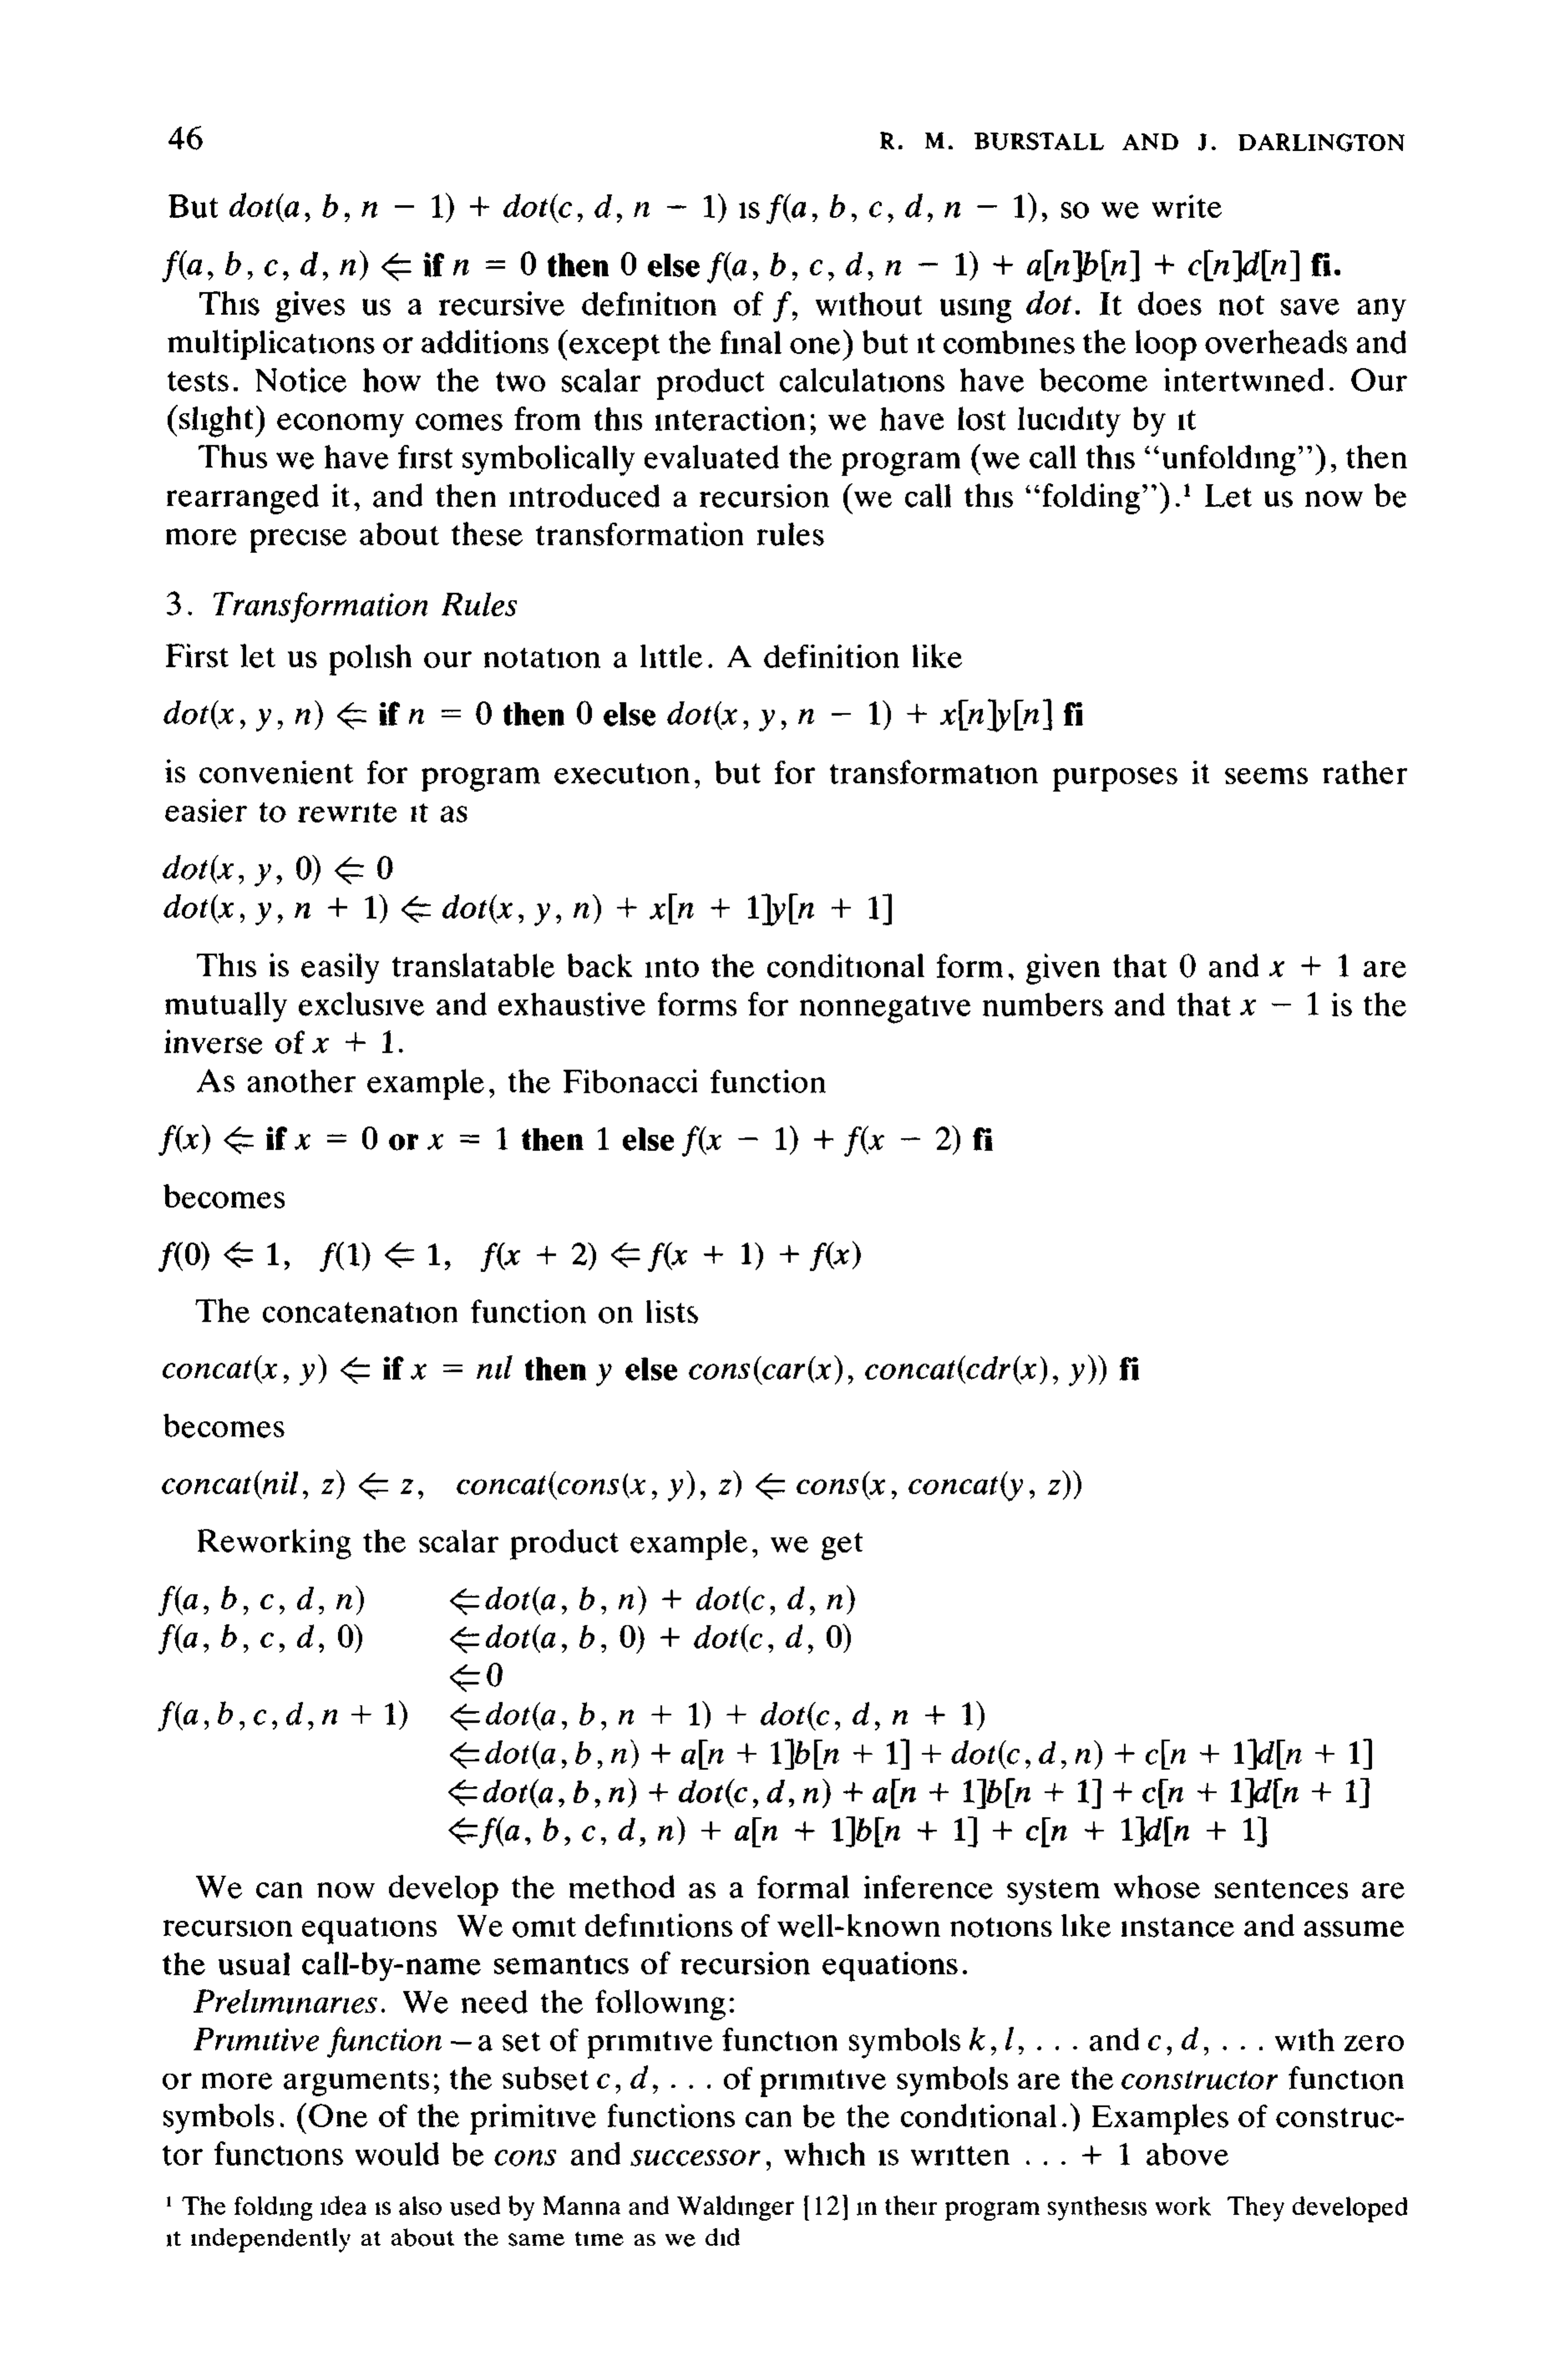maths: (451, 1739, 1372, 1770), (449, 1777, 1369, 1809), (449, 1816, 1267, 1849), (164, 893, 891, 926), (708, 250, 1299, 283), (456, 1471, 1082, 1501), (451, 1700, 984, 1730), (229, 192, 727, 224), (689, 1354, 1106, 1386), (668, 699, 1052, 732), (451, 1585, 855, 1616), (451, 1623, 851, 1655), (481, 1241, 862, 1272), (767, 192, 1036, 225), (682, 1125, 960, 1157), (163, 250, 412, 283), (163, 1470, 412, 1501), (157, 1700, 407, 1732), (163, 854, 393, 888), (163, 1354, 371, 1386), (164, 701, 367, 732), (159, 1587, 364, 1616), (159, 1625, 362, 1655), (159, 1242, 280, 1272), (320, 1242, 440, 1272), (159, 1125, 253, 1155), (411, 1356, 512, 1379), (453, 252, 537, 276), (409, 701, 491, 725), (295, 1127, 378, 1150), (1269, 954, 1349, 977), (313, 1031, 393, 1054), (1239, 993, 1318, 1015), (428, 1127, 507, 1150), (451, 1662, 503, 1692), (1082, 2142, 1129, 2165), (773, 292, 792, 322), (1181, 2027, 1199, 2050), (631, 2065, 648, 2088), (620, 252, 636, 276), (577, 701, 592, 725), (1180, 954, 1195, 979), (596, 1363, 612, 1386), (970, 2027, 986, 2050), (1005, 2027, 1014, 2050), (1148, 2036, 1161, 2050), (598, 2074, 610, 2088), (1036, 2046, 1077, 2050), (1222, 2046, 1262, 2050), (671, 2085, 711, 2088)
